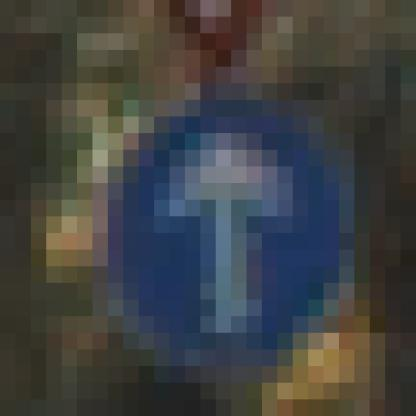AheadOnly: (78, 84, 340, 334)
